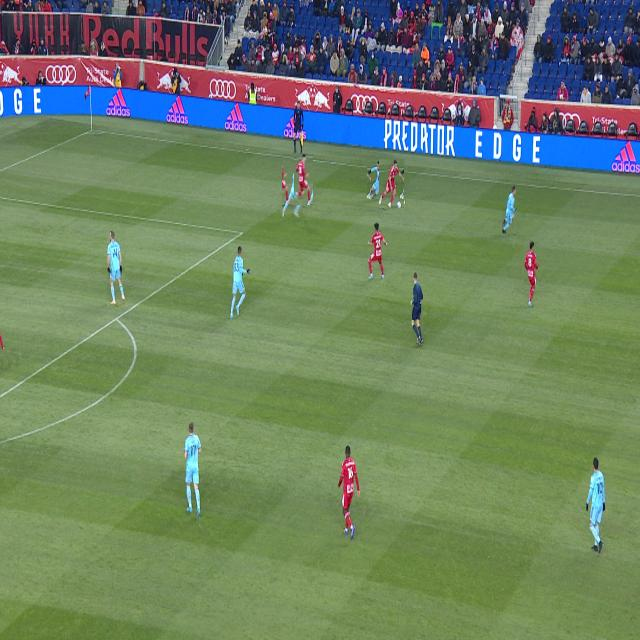football: (383, 201, 388, 210)
player: (338, 445, 360, 540), (586, 457, 605, 554), (184, 422, 202, 519), (230, 246, 250, 319), (107, 232, 125, 305), (380, 160, 404, 208), (368, 222, 387, 280), (282, 166, 303, 218), (294, 155, 313, 205), (525, 242, 538, 306), (502, 186, 517, 234), (367, 162, 384, 199)
referee: (410, 272, 423, 346)
